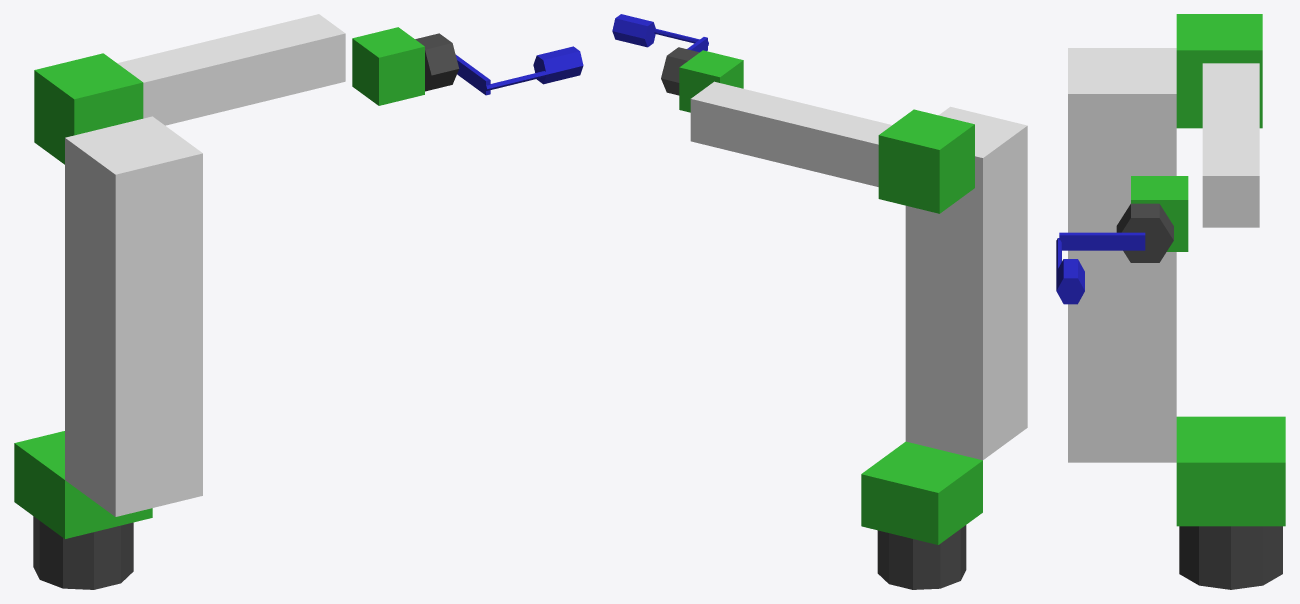
The model's file is crx_10_tool_openrave_210819.dae.
3 views of the same model, side by side, from view 1: azimuth 30°, elevation 25°; view 2: azimuth 150°, elevation 25°; view 3: azimuth 270°, elevation 25° (orthographic). The views are drawn at different scales.
Parts seen in each view (by area): view 1: arm2, arm4, arm3, arm1, stand, arm5, ee_link, arm6; view 2: arm2, arm4, arm1, arm3, stand, arm5, ee_link, arm6; view 3: arm2, arm1, arm4, arm3, stand, ee_link, arm5, arm6.
Part boxes in pixels (<box>): arm2: <box>65,116,202,516</box>; arm4: <box>117,14,345,125</box>; arm3: <box>34,53,143,164</box>; arm1: <box>14,431,152,538</box>; stand: <box>33,516,133,589</box>; arm5: <box>352,27,424,105</box>; ee_link: <box>456,46,583,95</box>; arm6: <box>415,33,459,91</box>; arm2: <box>905,106,1027,460</box>; arm4: <box>690,81,891,186</box>; arm1: <box>861,441,982,544</box>; arm3: <box>878,109,974,213</box>; stand: <box>877,525,966,589</box>; arm5: <box>679,50,743,112</box>; ee_link: <box>612,14,708,52</box>; arm6: <box>661,47,699,95</box>; arm2: <box>1068,48,1176,462</box>; arm1: <box>1176,416,1285,526</box>; arm4: <box>1202,63,1259,227</box>; arm3: <box>1176,14,1262,128</box>; stand: <box>1179,526,1282,589</box>; ee_link: <box>1056,232,1145,304</box>; arm5: <box>1131,176,1188,251</box>; arm6: <box>1116,203,1173,262</box>.
Bounding box in the file's own units: 1 × 0.4 × 1.03.
